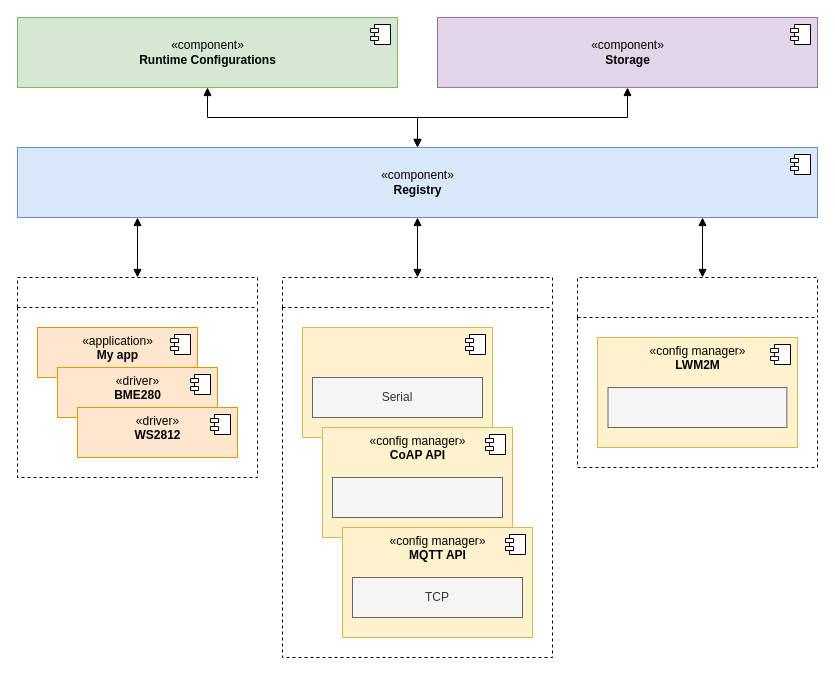
The diagram is 835 pixels wide and 675 high, and some of its shapes have lost their labels. Here are the shapes that lost their labels. From the top down, the box of each, then its label:
(16, 276, 258, 478): Applications / Drivers
(302, 326, 492, 438): «config manager» Config CLI (Riot Shell)
(576, 276, 818, 468): Custom Schema Based Configuration Managers
(607, 386, 787, 428): CoAP
(282, 276, 552, 658): Path Based Configuration Managers
(332, 476, 502, 518): UDP
